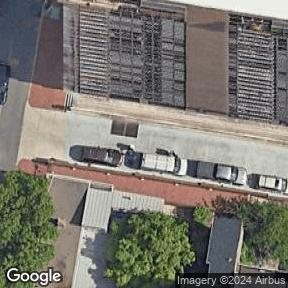vegetation: (105, 211, 195, 288), (0, 171, 58, 288), (192, 208, 213, 227)
